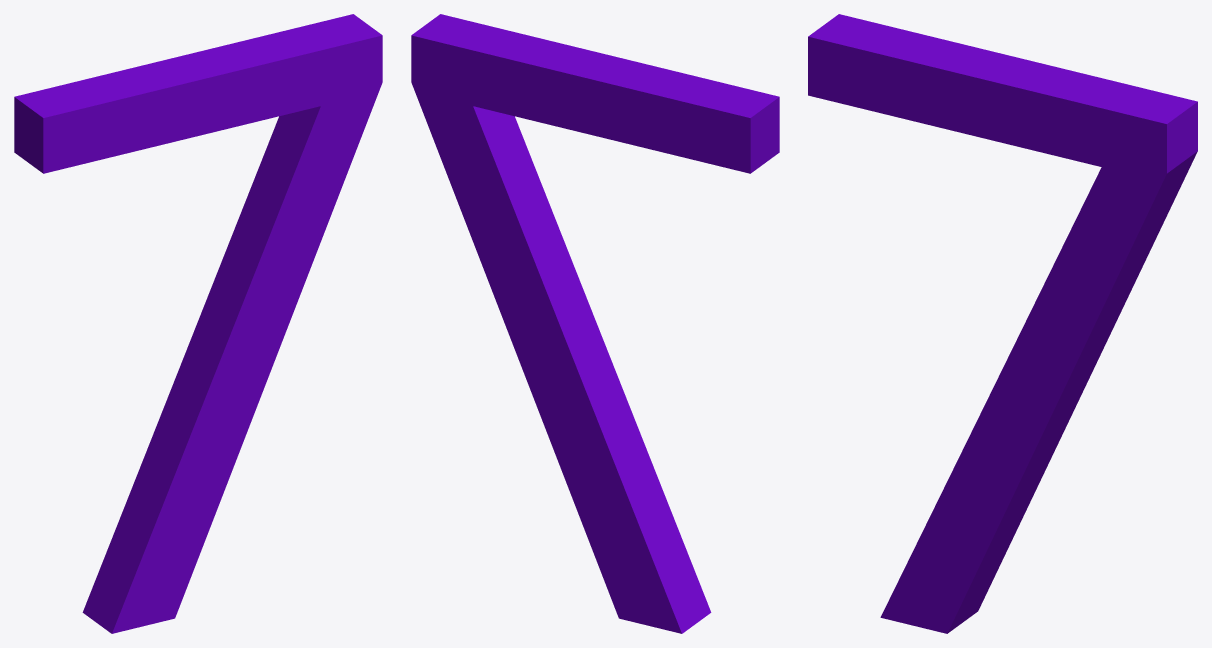
Rendered from 3d-number-7.glb.
The picture shows the model from 3 angles, left to right: view 1: azimuth 30°, elevation 25°; view 2: azimuth 150°, elevation 25°; view 3: azimuth 330°, elevation 25°; orthographic projection. The views are drawn at different scales.
Parts seen in each view (by area): view 1: Mesh_Mesh_head_geo.001_lambert2SG.001; view 2: Mesh_Mesh_head_geo.001_lambert2SG.001; view 3: Mesh_Mesh_head_geo.001_lambert2SG.001.
Part boxes in pixels (left/top/right/bottom): Mesh_Mesh_head_geo.001_lambert2SG.001: left=14, top=14, right=382, bottom=633; Mesh_Mesh_head_geo.001_lambert2SG.001: left=411, top=14, right=779, bottom=633; Mesh_Mesh_head_geo.001_lambert2SG.001: left=808, top=14, right=1197, bottom=633.
Size of the model in its own units: 0.0335 by 0.0502 by 0.005.
